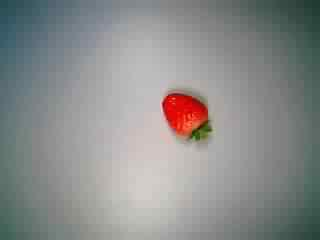strawberry: (153, 86, 219, 148)
